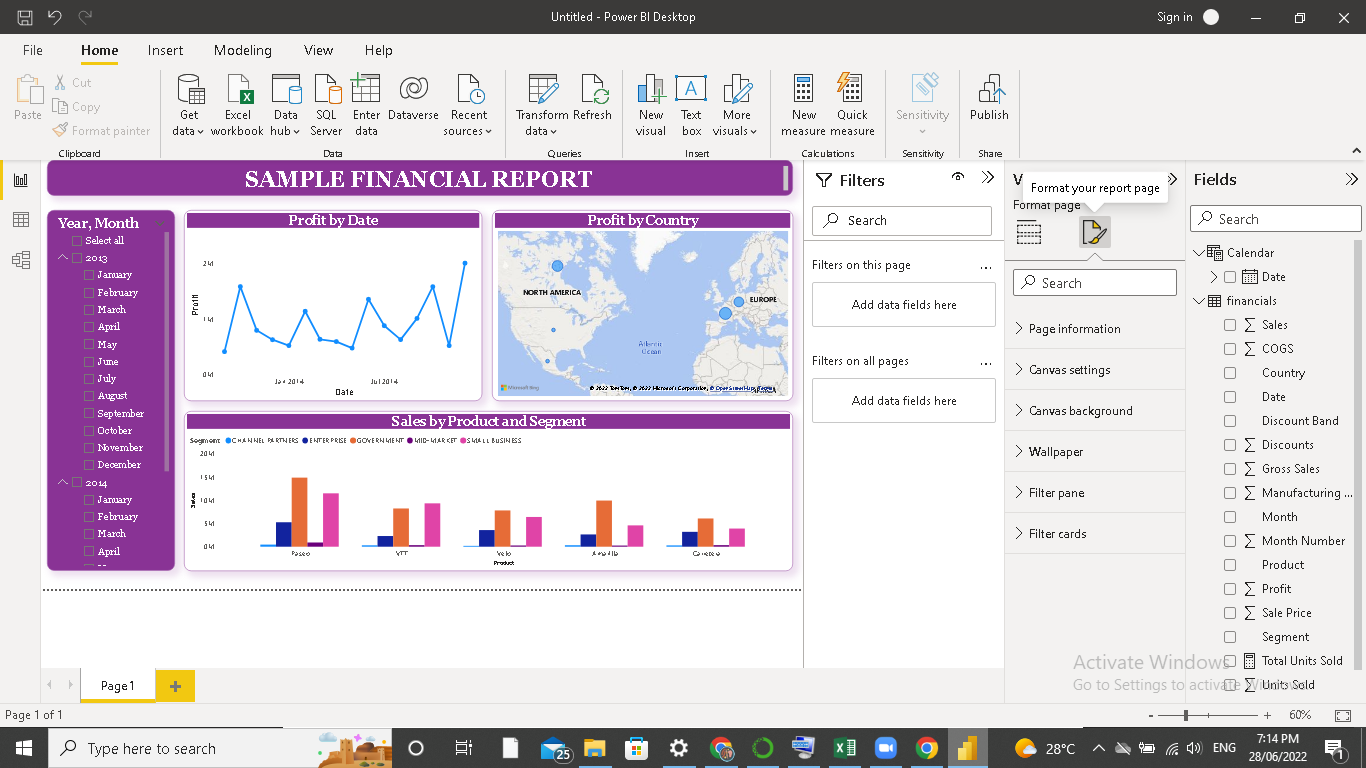

The page's visual inventory and layout, read from the dashboard file:
{"tool":"powerbi","page":{"name":"Page 1","canvas":[1280,720],"ordinal":0},"visuals":[{"type":"textbox","box":[10.1,0,1253.1,60.5],"z":0},{"type":"slicer","fields":{"Values":["Calendar.Date.Variation.Date Hierarchy.Year","Calendar.Date.Variation.Date Hierarchy.Month"]},"box":[10.1,84,215,606.4],"z":1},{"type":"lineChart","fields":{"Category":["financials.Date"],"Y":["Sum(financials.Profit)"]},"box":[240.2,84,500.6,320.8],"z":2},{"type":"map","fields":{"Category":["financials.Country"],"Size":["Sum(financials.Profit)"]},"box":[757.6,84,505.6,320.8],"z":3},{"type":"clusteredColumnChart","fields":{"Y":["Sum(financials. Sales)"],"Category":["financials.Product"],"Series":["financials.Segment"]},"box":[240.2,421.6,1023,268.8],"z":4}]}

Visuals, with their boxes on the page's 1280x720 design canvas (x1, y1, x2, y2). These are canvas units, not pixel positions in the 1366x768 screenshot, which may show the page scaled, cropped or inside an application window:
textbox: Rect(10, 0, 1263, 60)
slicer - Calendar.Date.Variation.Date Hierarchy.Year x Calendar.Date.Variation.Date Hierarchy.Month: Rect(10, 84, 225, 690)
lineChart - financials.Date x Sum(financials.Profit): Rect(240, 84, 741, 405)
map - financials.Country x Sum(financials.Profit): Rect(758, 84, 1263, 405)
clusteredColumnChart - Sum(financials. Sales) x financials.Product: Rect(240, 422, 1263, 690)
